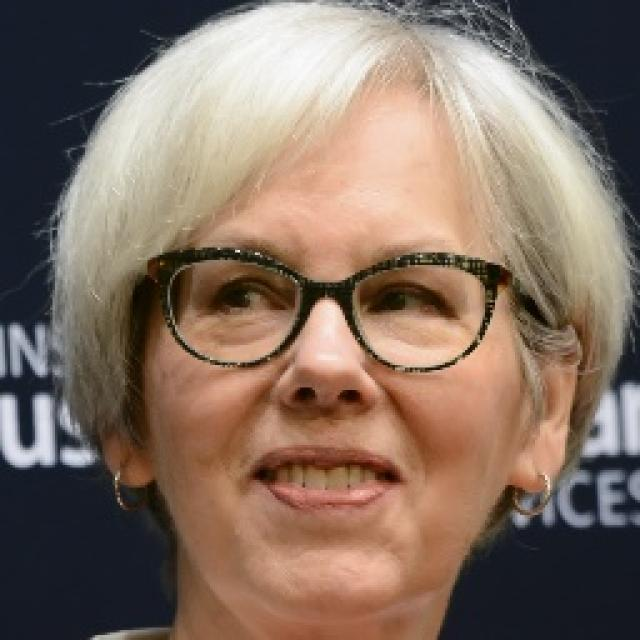earlobe: (509, 450, 568, 495), (105, 453, 155, 487)
eye: (208, 281, 286, 312), (370, 284, 442, 316)
nose: (277, 388, 379, 442)
wholeear: (506, 342, 577, 494), (98, 424, 157, 487)
